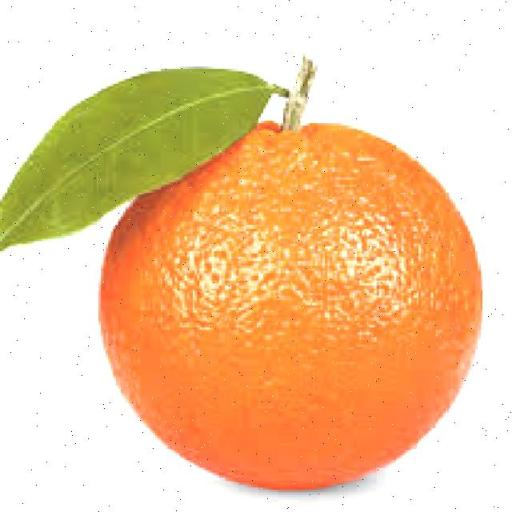Qua Tuoi: (1, 0, 512, 485), (1, 58, 482, 488), (1, 212, 137, 491)
